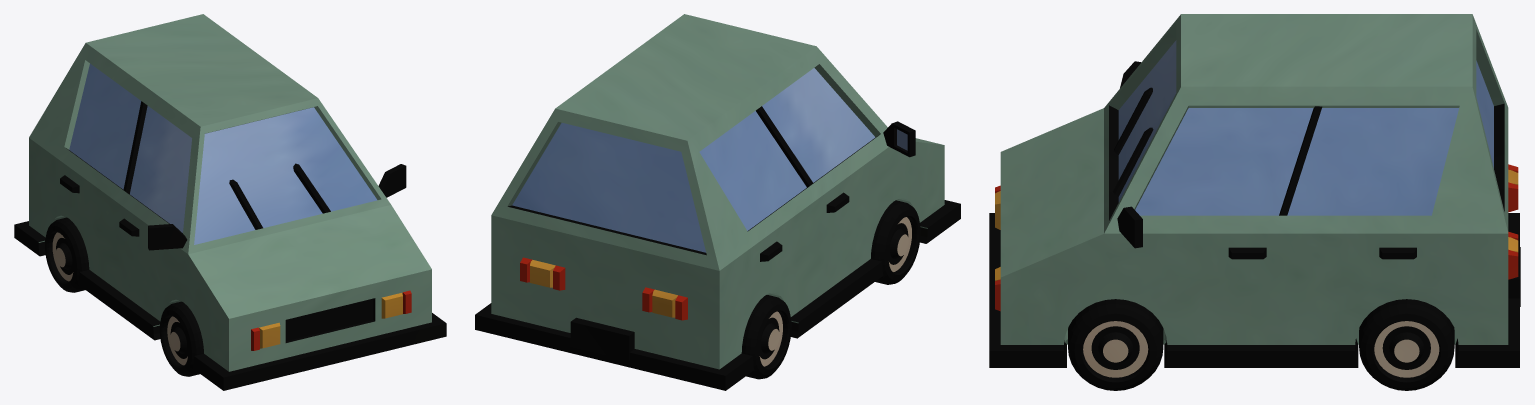
Rendered from araba minik.fbx.
The picture shows the model from 3 angles, left to right: view 1: azimuth 30°, elevation 25°; view 2: azimuth 150°, elevation 25°; view 3: azimuth 270°, elevation 25°; orthographic projection. The views are drawn at different scales.
Visible parts, largest first — view 1: Plane.005; view 2: Plane.005; view 3: Plane.005.
Part boxes in pixels (bbox=[...]): Plane.005: bbox=[14, 14, 446, 390]; Plane.005: bbox=[475, 14, 960, 390]; Plane.005: bbox=[989, 14, 1520, 390].
Bounding box in the file's own units: 314 × 254 × 443.
1 material, 1 textured.
